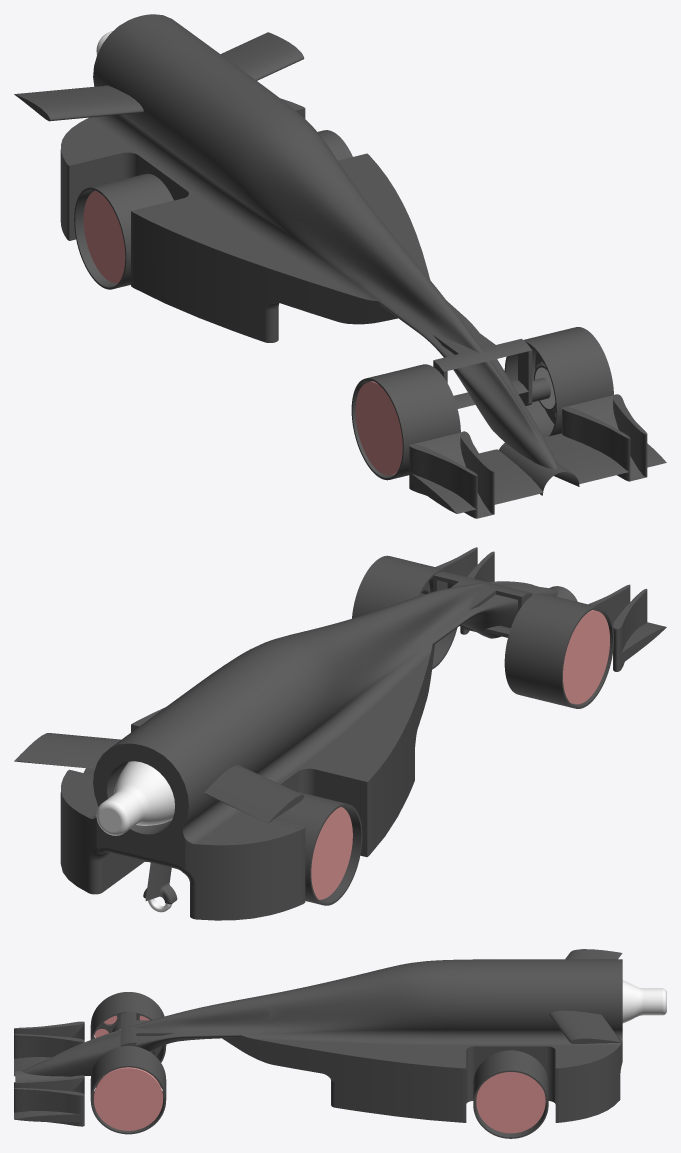
The picture shows the model from 3 angles, top to bottom: view 1: azimuth 30°, elevation 25°; view 2: azimuth 150°, elevation 25°; view 3: azimuth 270°, elevation 25°; orthographic projection. The views are drawn at different scales.
Parts seen in each view (by area): view 1: Chassis, Nase, Body2_node_1, Body2_node_0, Body2, Body1_node_0, Body1_node_9, Body1_node_6; view 2: Chassis, Nase, Body2_node_0, Body1_node_10, Body2_node_1, Body1_node_9, Body2, Body1_node_0, Body1_node_6; view 3: Chassis, Nase, Body1_node_8, Body1_node_7, Body1_node, Body2_node, Body2_node_1, Body2_node_0, Body1_node_10.
Part boxes in pixels (box(x1,y1,x2,y2)): Chassis: box(14, 14, 427, 342); Nase: box(342, 238, 666, 518); Body2_node_1: box(504, 327, 613, 437); Body2_node_0: box(351, 364, 460, 480); Body2: box(74, 173, 173, 289); Body1_node_0: box(67, 150, 194, 287); Body1_node_9: box(355, 381, 402, 475); Body1_node_6: box(83, 190, 125, 283); Chassis: box(14, 609, 427, 920); Nase: box(378, 547, 666, 693); Body2_node_0: box(504, 593, 613, 708); Body1_node_10: box(96, 761, 174, 835); Body2_node_1: box(352, 555, 457, 669); Body1_node_9: box(563, 610, 609, 704); Body2: box(274, 791, 362, 905); Body1_node_0: box(242, 766, 369, 903); Body1_node_6: box(311, 807, 352, 899); Chassis: box(269, 949, 622, 1122); Nase: box(14, 994, 269, 1126); Body1_node_8: box(94, 1067, 162, 1130); Body1_node_7: box(476, 1072, 545, 1133); Body1_node: box(463, 1045, 558, 1122); Body2_node: box(473, 1050, 548, 1138); Body2_node_1: box(90, 1046, 166, 1134); Body2_node_0: box(90, 992, 166, 1062); Body1_node_10: box(622, 980, 666, 1023).
Bounding box in the file's own units: 68.85 × 47.85 × 212.
